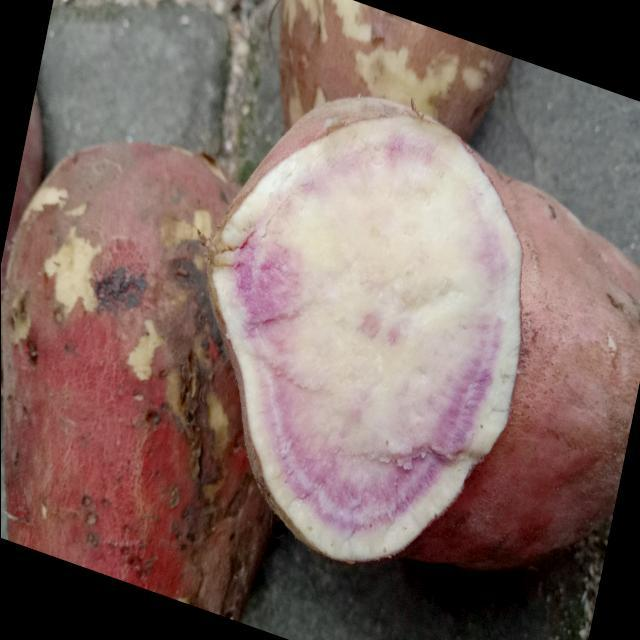Healthy Sweet Potato: (206, 98, 521, 560)
